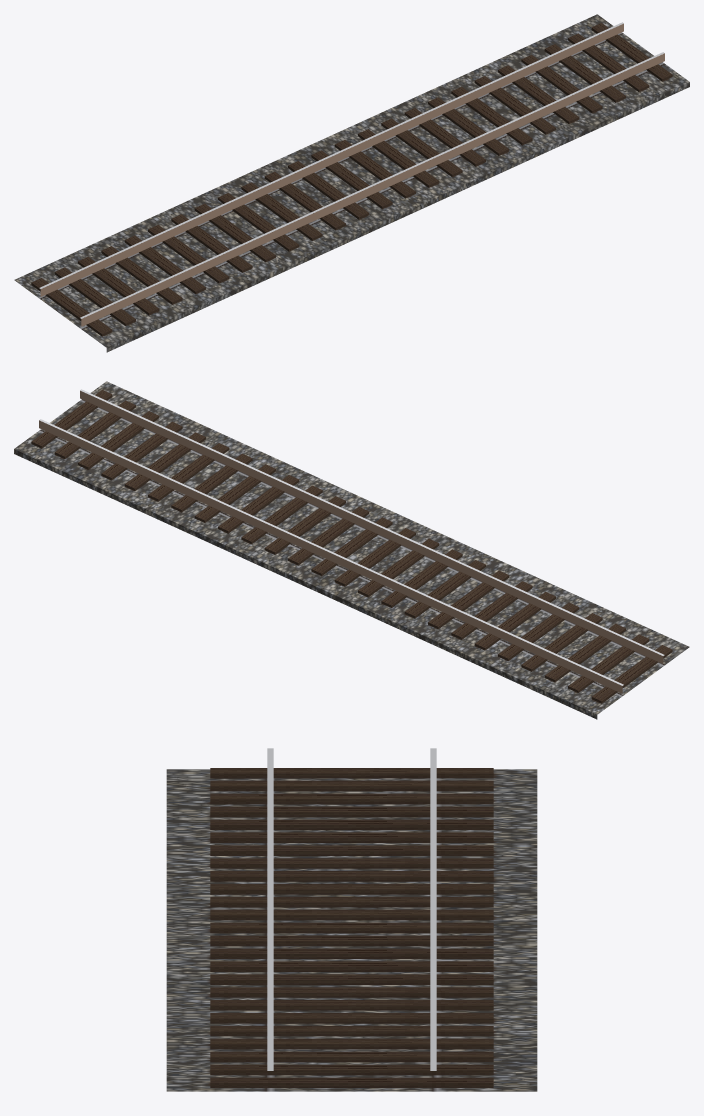
Rendered from kolej_svah_drevo_siroka.glb.
3 views of the same model, one above another, from view 1: azimuth 30°, elevation 25°; view 2: azimuth 150°, elevation 25°; view 3: azimuth 270°, elevation 25° (orthographic). The views are drawn at different scales.
Visible parts, largest first — view 1: kolej_svah_drevo_siroka; view 2: kolej_svah_drevo_siroka; view 3: kolej_svah_drevo_siroka.
Part boxes in pixels (box(x1,y1,x2,y2)): kolej_svah_drevo_siroka: box(14, 14, 689, 352); kolej_svah_drevo_siroka: box(14, 381, 689, 719); kolej_svah_drevo_siroka: box(166, 748, 537, 1091).
Size of the model in its own units: 14.84 by 3.37 by 4.08.
Materials: 4 (2 with a texture image).
